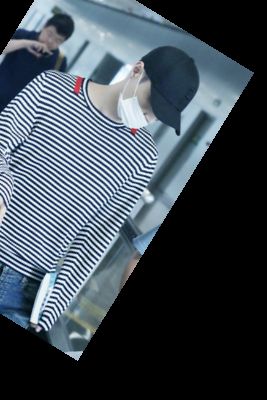mask_weared_incorrect: (114, 44, 198, 148)
